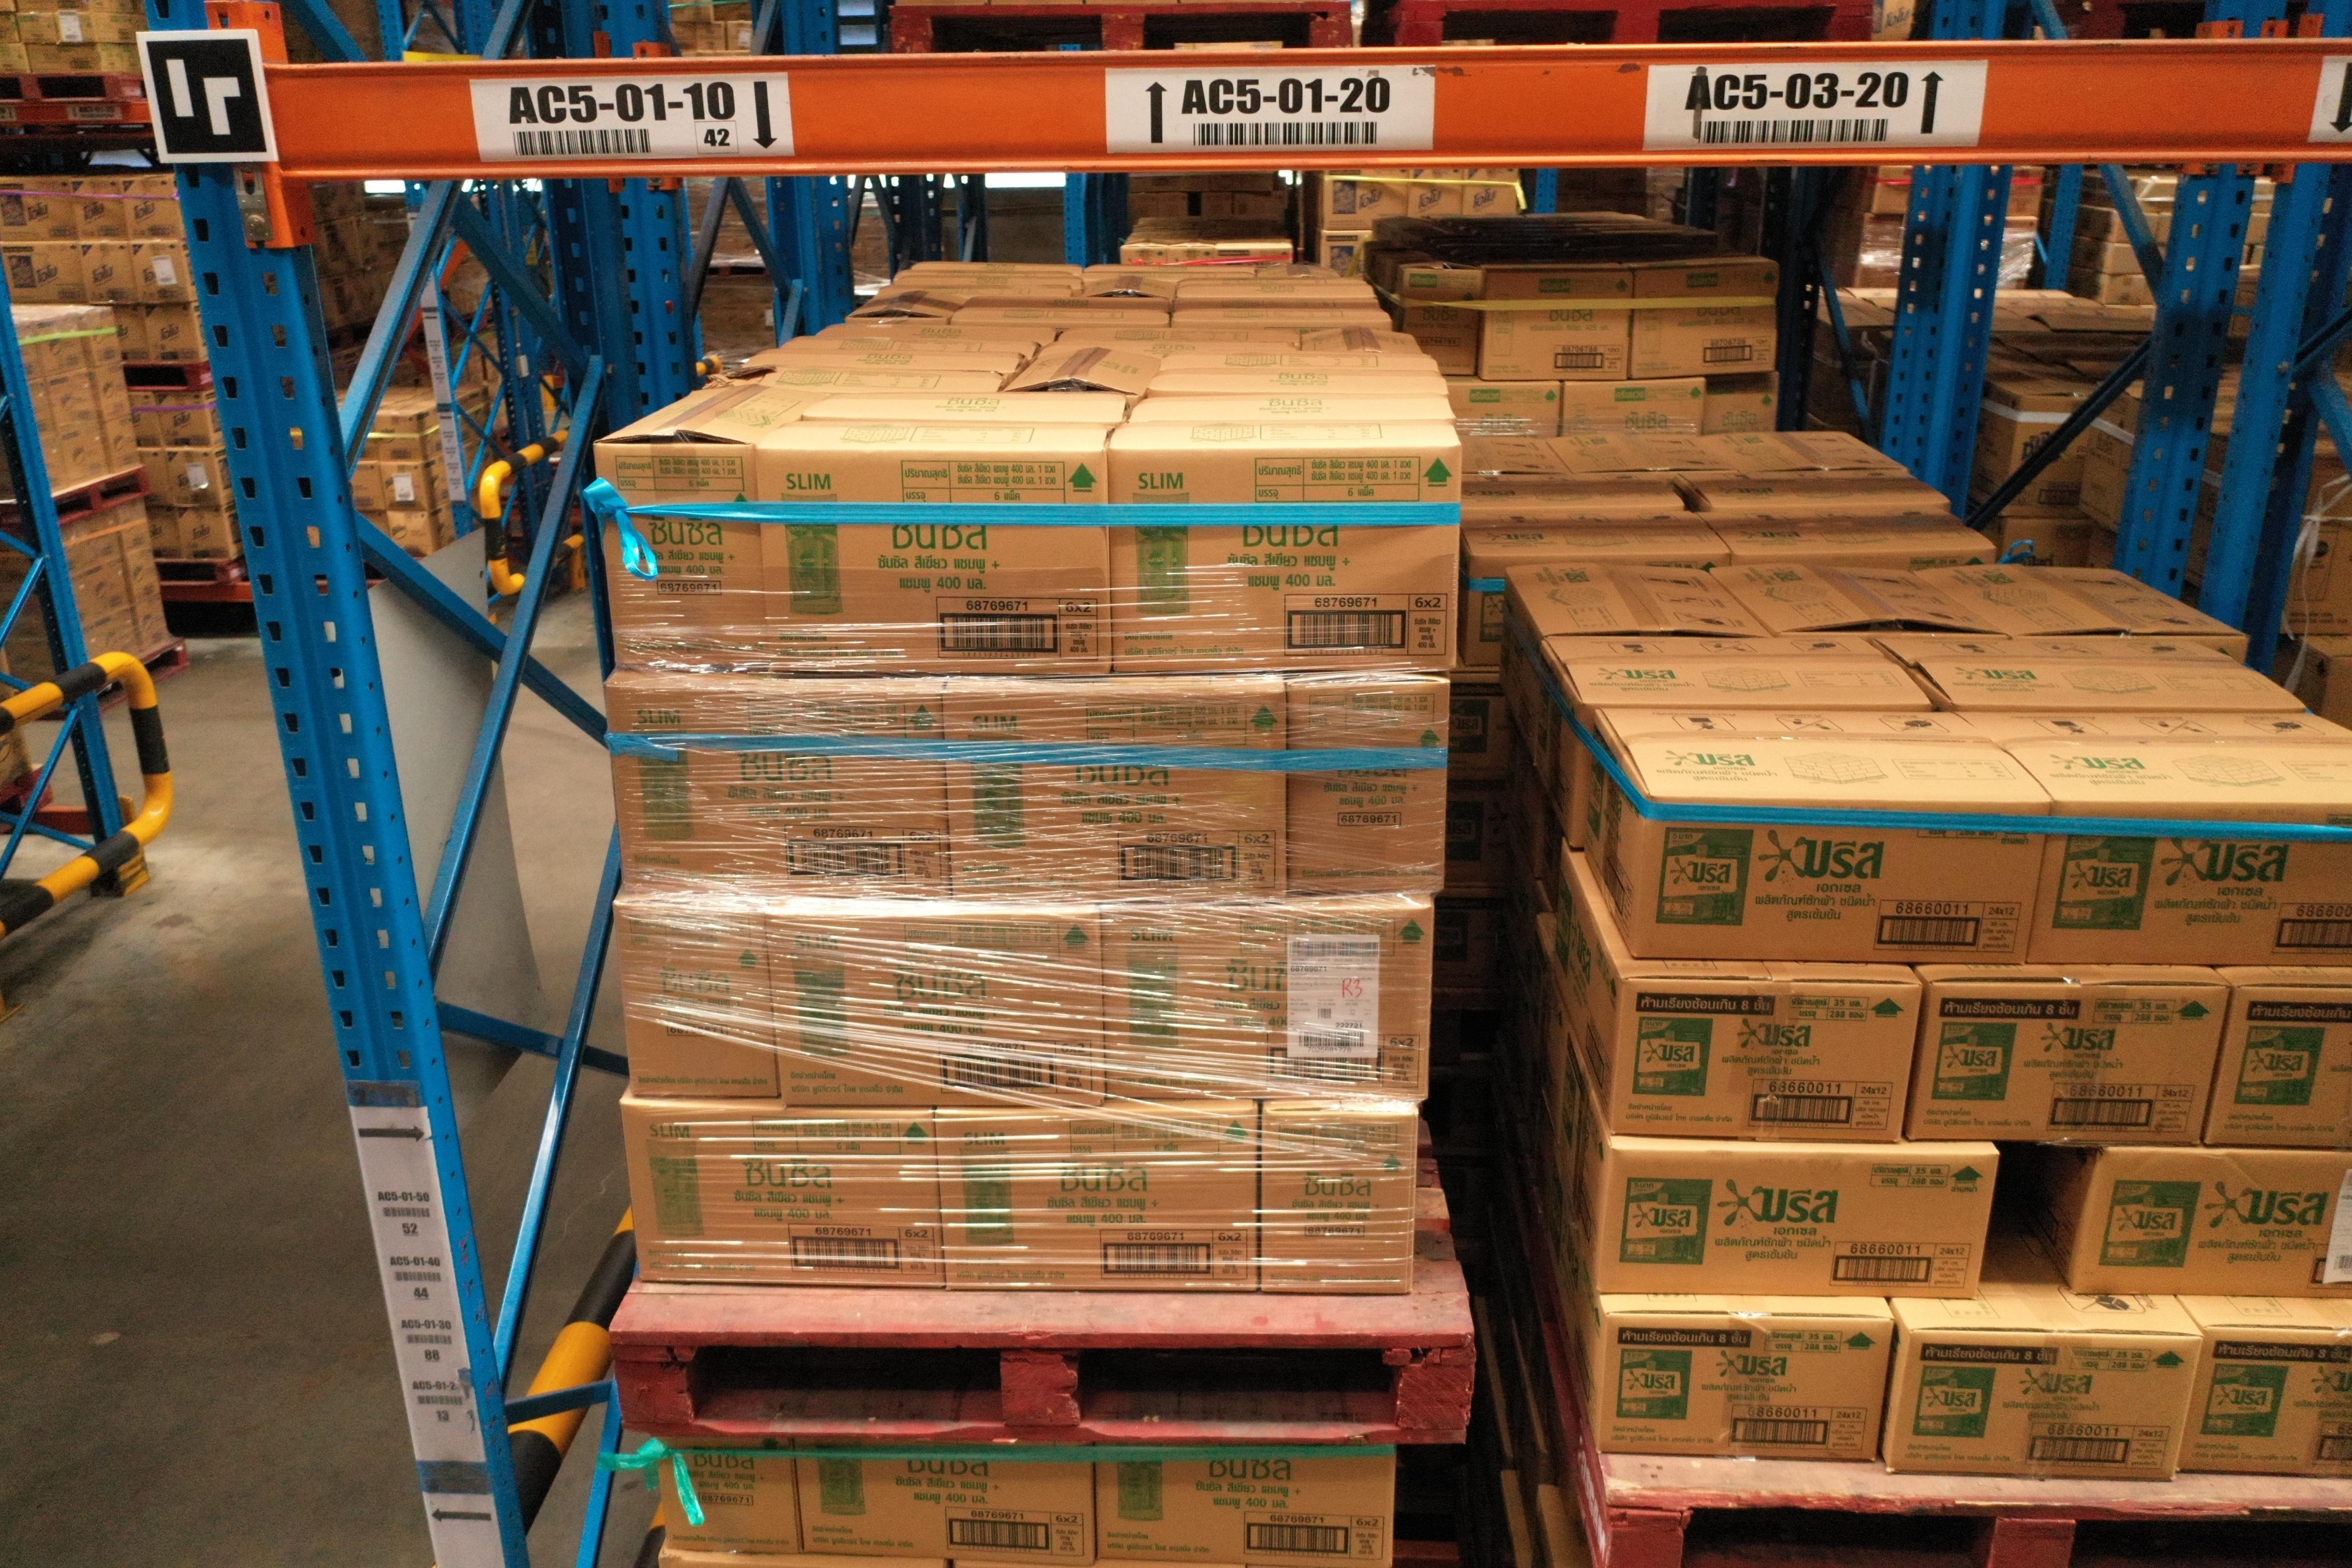-: (1106, 444, 1461, 675), (756, 446, 1109, 677), (945, 686, 1290, 908), (602, 679, 948, 898), (1638, 791, 2058, 969), (759, 912, 1104, 1109), (1102, 903, 1438, 1104), (1596, 1148, 1991, 1304), (619, 1101, 945, 1290), (933, 1104, 1256, 1293), (1911, 973, 2226, 1148), (1612, 976, 1928, 1143), (2035, 798, 2352, 964), (1888, 1330, 2205, 1486), (1594, 1312, 1895, 1466), (593, 443, 773, 681), (2072, 1148, 2352, 1298), (1092, 1442, 1398, 1568), (793, 1444, 1095, 1566), (1284, 681, 1449, 905), (612, 903, 779, 1099), (1256, 1104, 1419, 1297), (2177, 1321, 2352, 1477), (2205, 987, 2352, 1151), (658, 1440, 798, 1561)
2: (1480, 266, 1636, 385), (1629, 264, 1774, 383), (1403, 264, 1482, 385)
